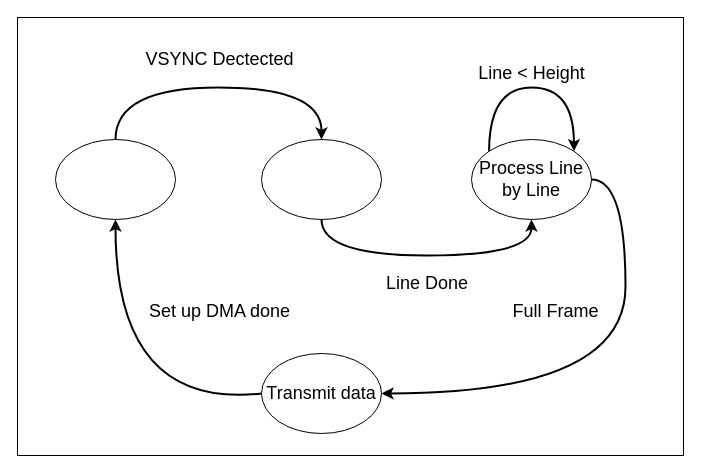
Some shapes in this 701 by 473 pixel diagram are drawn without their labels. Each missing label, with the centre of its shape:
"Idle State" belongs at [115,179].
"Start Capture" belongs at [321,179].
